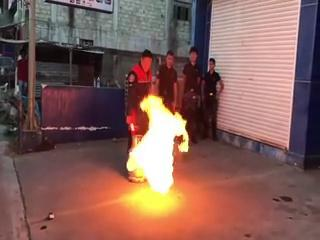Fire: (126, 93, 180, 187)
